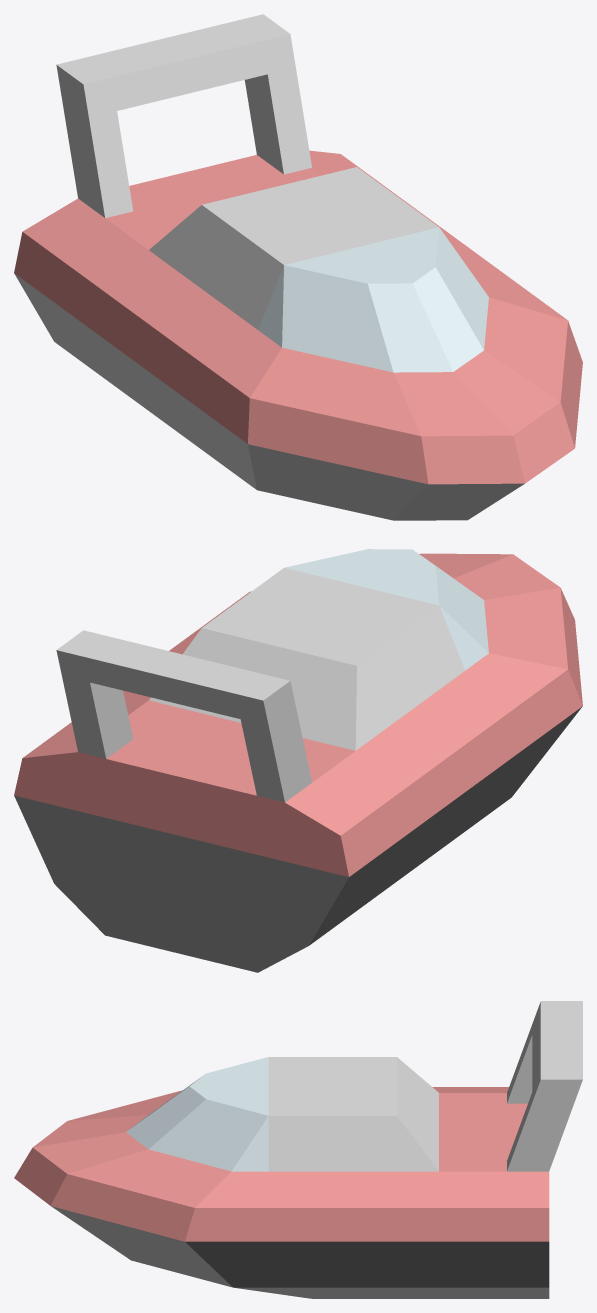
File: boat_017.glb
The picture shows the model from 3 angles, top to bottom: view 1: azimuth 30°, elevation 25°; view 2: azimuth 150°, elevation 25°; view 3: azimuth 270°, elevation 25°; orthographic projection. The views are drawn at different scales.
Parts seen in each view (by area): view 1: boat_017; view 2: boat_017; view 3: boat_017.
Boxes of the visible parts, box(x1,y1,x2,y2) form: boat_017: box(14, 14, 582, 520); boat_017: box(14, 549, 582, 972); boat_017: box(14, 1001, 582, 1298).
Bounding box in the file's own units: 1.78 × 1.5 × 3.37.
